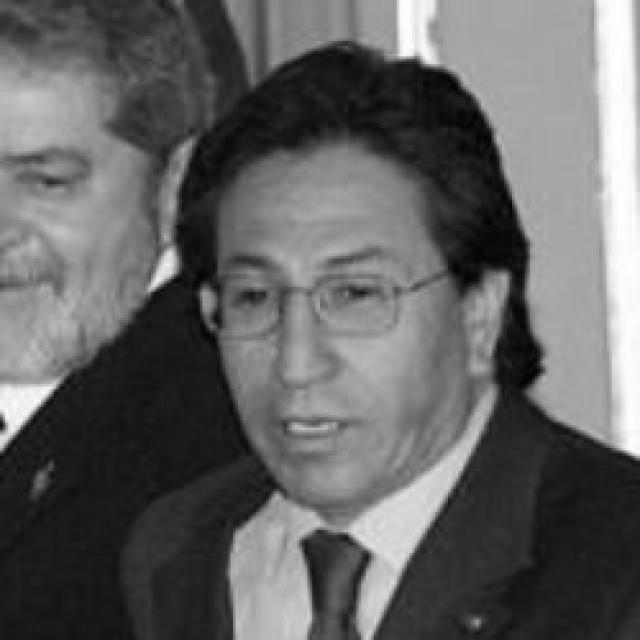real: (216, 156, 464, 506), (234, 280, 410, 315)
